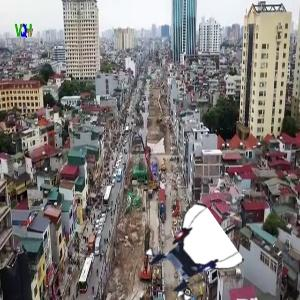drone: (150, 215, 233, 298)
